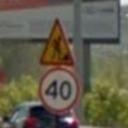speed_limit_40: (38, 66, 82, 116)
